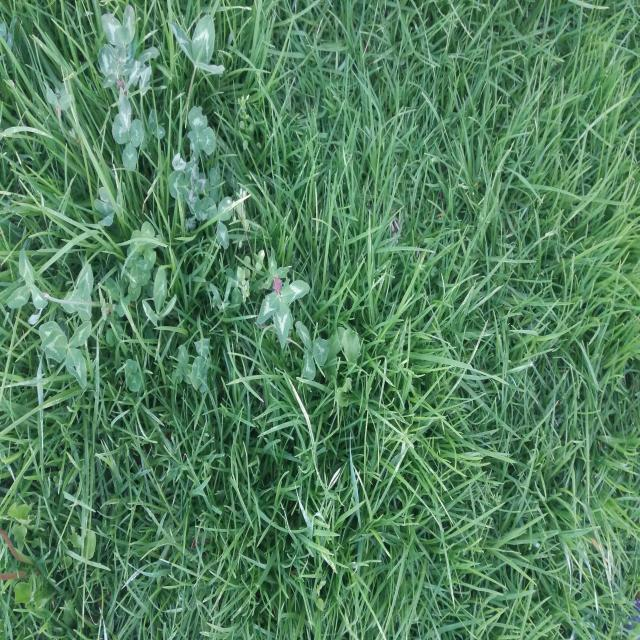Four Leaf Clover: (38, 320, 92, 389)
